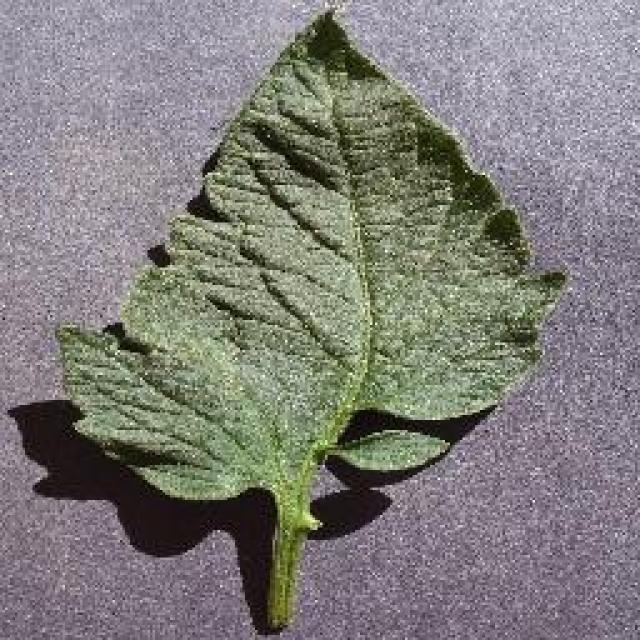Tomato healthy leaf: (54, 13, 568, 555)
